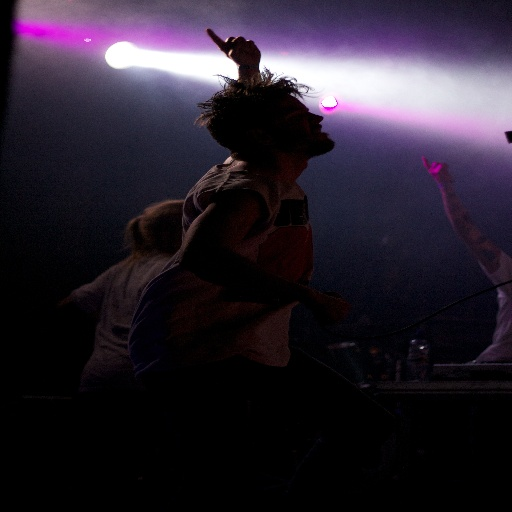hand: (201, 29, 263, 71), (420, 157, 455, 184)
